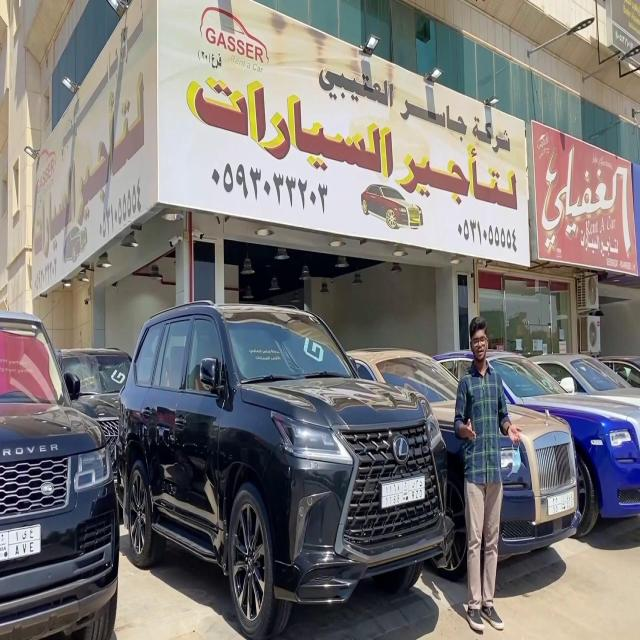license_plate: (0, 516, 42, 567), (378, 469, 427, 512), (544, 482, 575, 516)
